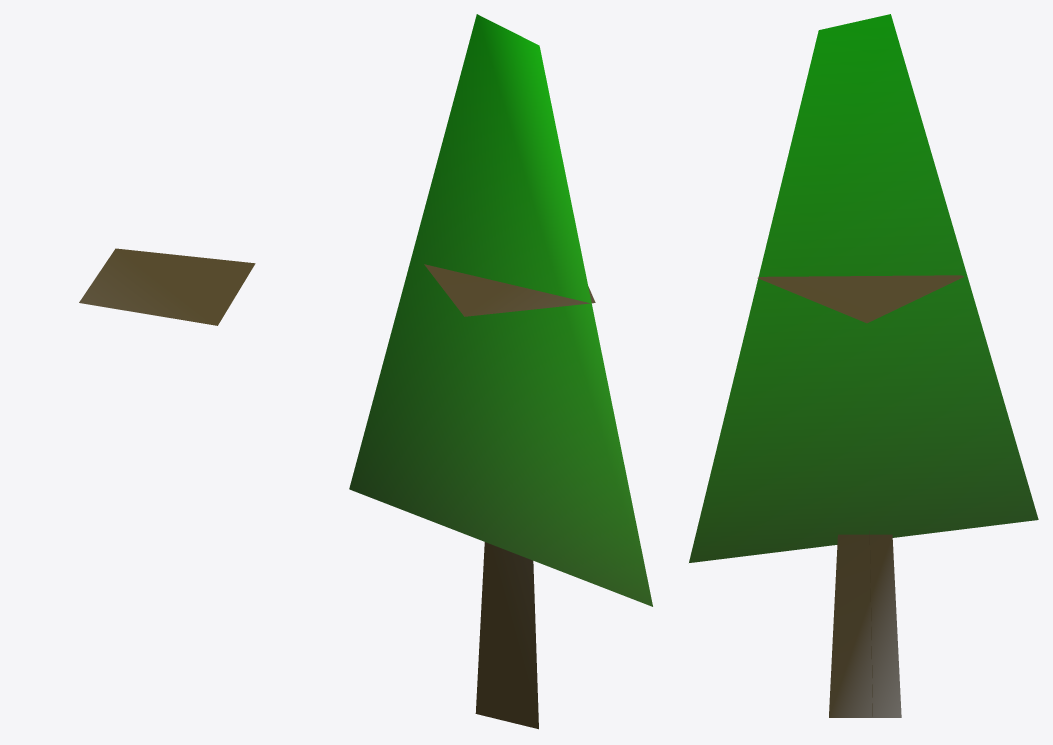
File: tree-sapin-lod0.glb
3 renders of one model, left to right at view 1: azimuth 30°, elevation 25°; view 2: azimuth 150°, elevation 25°; view 3: azimuth 270°, elevation 25°, orthographic.
Visible parts, largest first — view 1: Cube.002; view 2: Cube.002; view 3: Cube.002.
Part boxes in pixels (box(x1,y1,x2,y2)): Cube.002: box(79, 248, 255, 325); Cube.002: box(349, 14, 652, 729); Cube.002: box(689, 14, 1038, 717).
Size of the model in its own units: 6.31 by 13.74 by 6.34.
